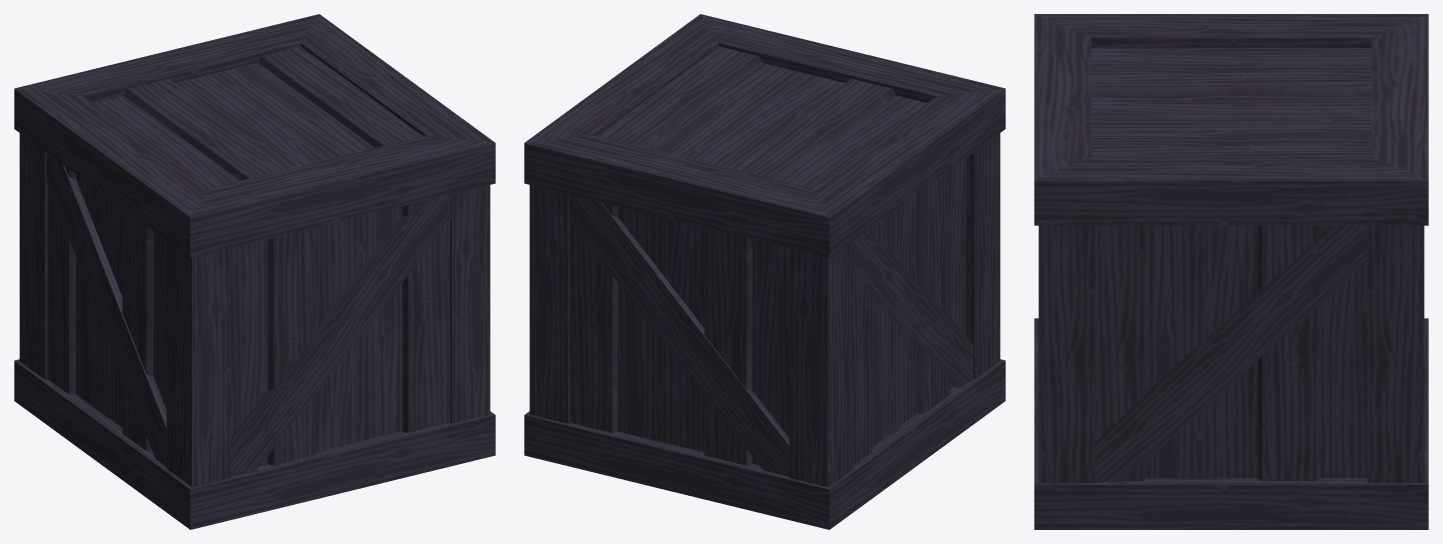
3 views of the same model, side by side, from view 1: azimuth 30°, elevation 25°; view 2: azimuth 150°, elevation 25°; view 3: azimuth 270°, elevation 25° (orthographic). The views are drawn at different scales.
Visible parts, largest first — view 1: Prop_Crate; view 2: Prop_Crate; view 3: Prop_Crate.
Boxes of the visible parts, box(x1,y1,x2,y2) form: Prop_Crate: box(14, 14, 495, 529); Prop_Crate: box(524, 14, 1005, 529); Prop_Crate: box(1034, 14, 1428, 529).
Size of the model in its own units: 1.08 by 1.06 by 1.08.
Materials: 1 (1 with a texture image).
